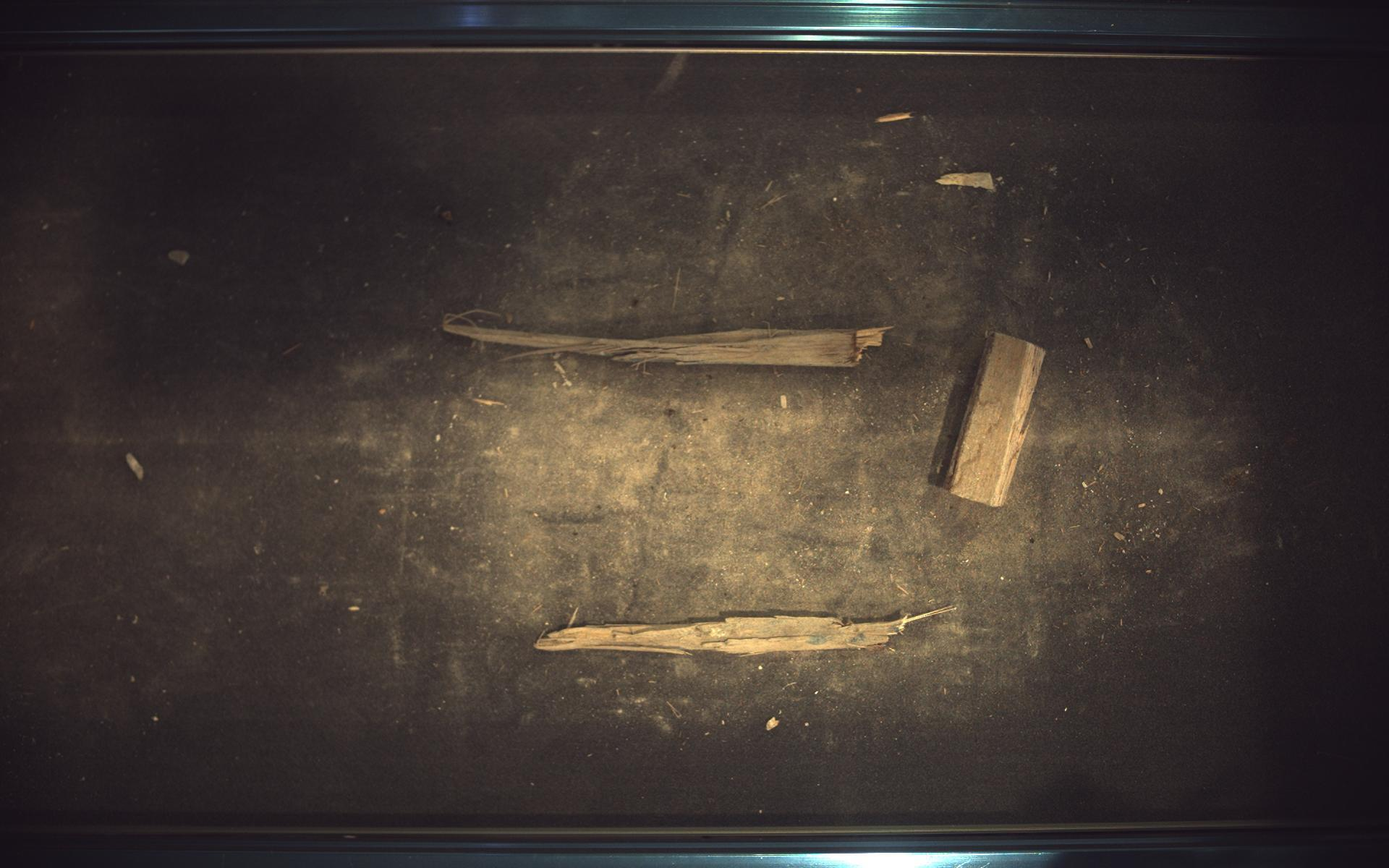wood: (443, 310, 891, 367), (535, 606, 956, 656), (948, 333, 1048, 507)
